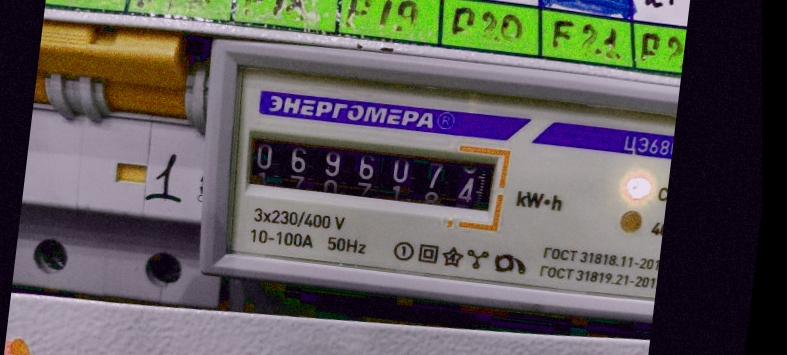0: (253, 139, 275, 170), (388, 154, 410, 183)
4: (454, 174, 476, 204)
6: (356, 150, 377, 180), (287, 144, 308, 173)
7: (423, 158, 445, 190)
9: (321, 148, 342, 178)
screen: (228, 114, 515, 233)
